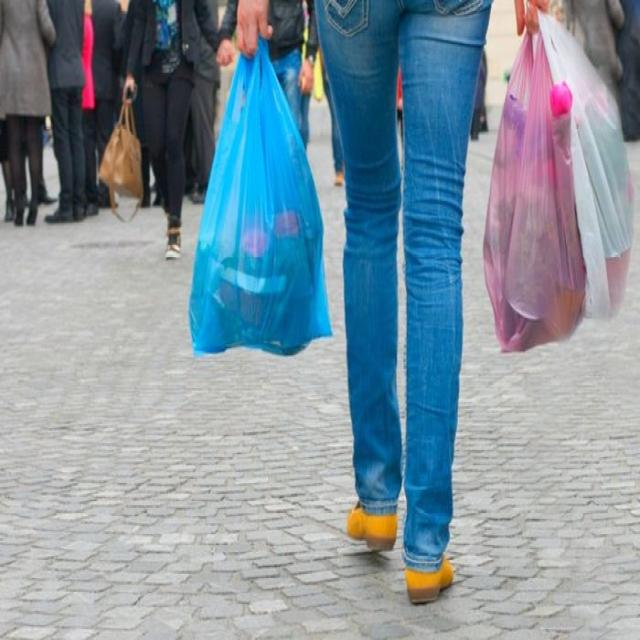sampah-detection: (480, 14, 631, 363), (187, 36, 339, 369)
